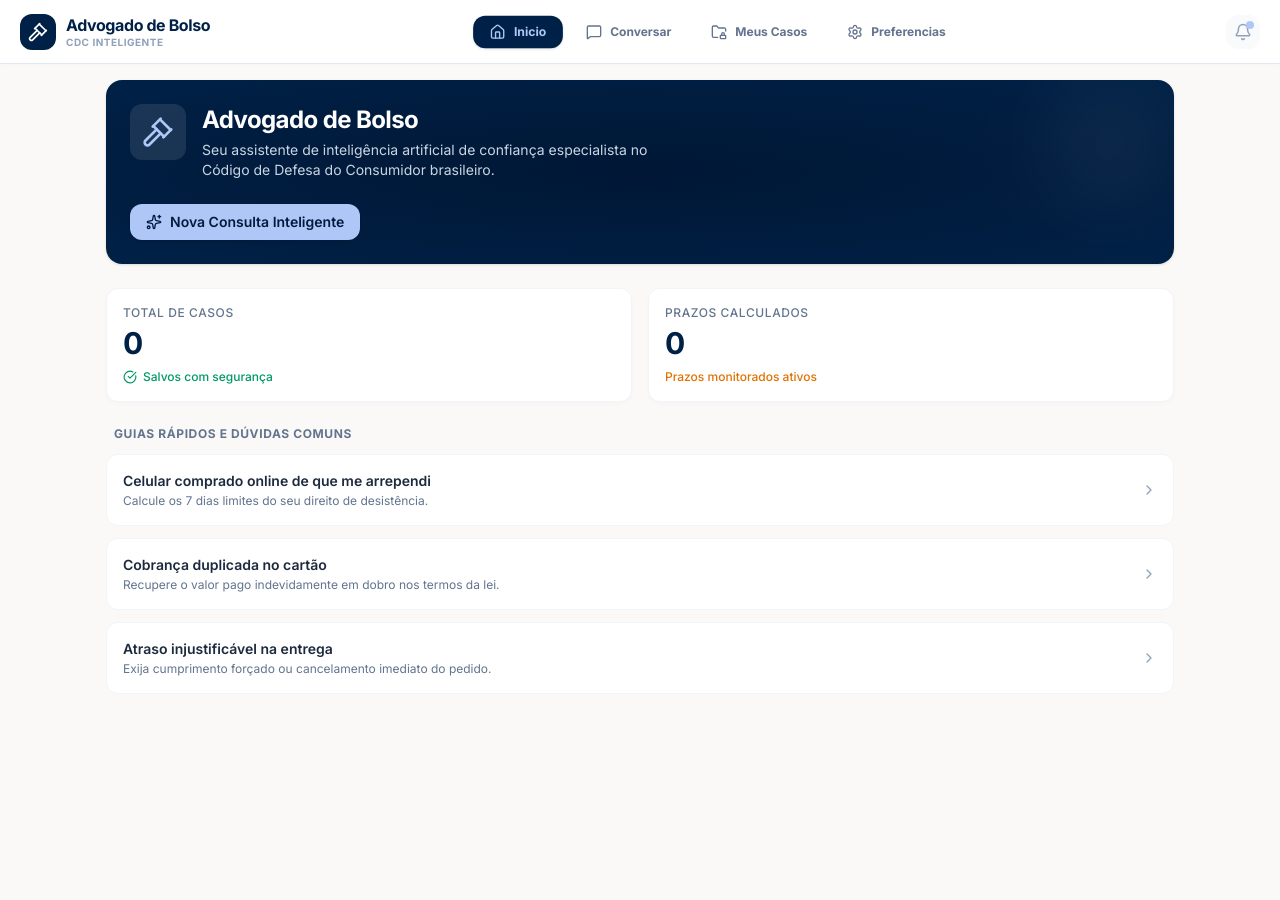
App frontend integration › a successful first message synthesizes a real case from request metadata without fetching the case by id
Click the button "Conversar": (629, 32) [570,16,687,48]
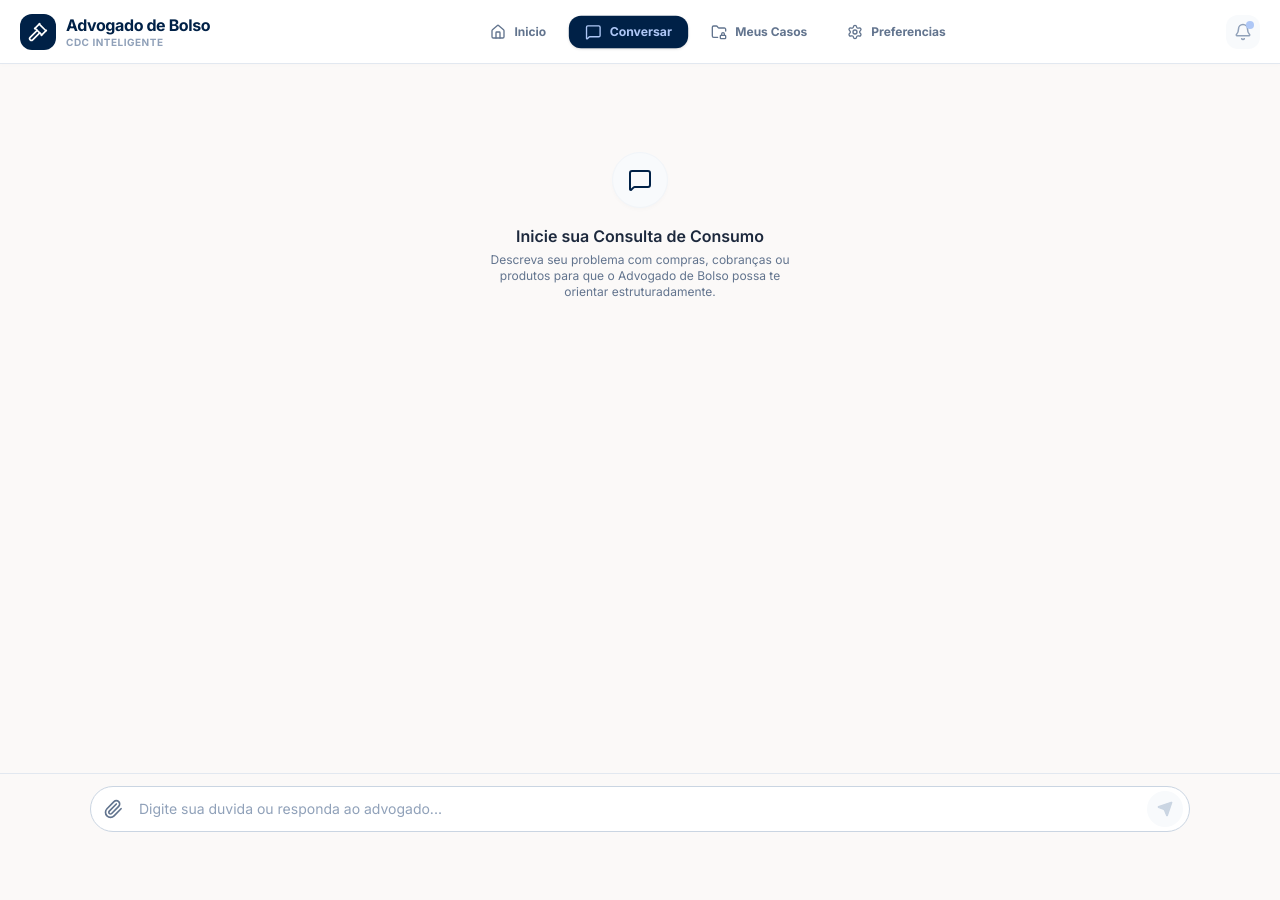
Expected: the heading "Inicie sua Consulta de Consumo" is shown, [516,224,764,248]
In the field with placeholder "Digite sua duvida ou responda ao advogado...": (641, 809) [135,787,1147,831], type "Fui cobrado duas vezes pelo mesmo produto."
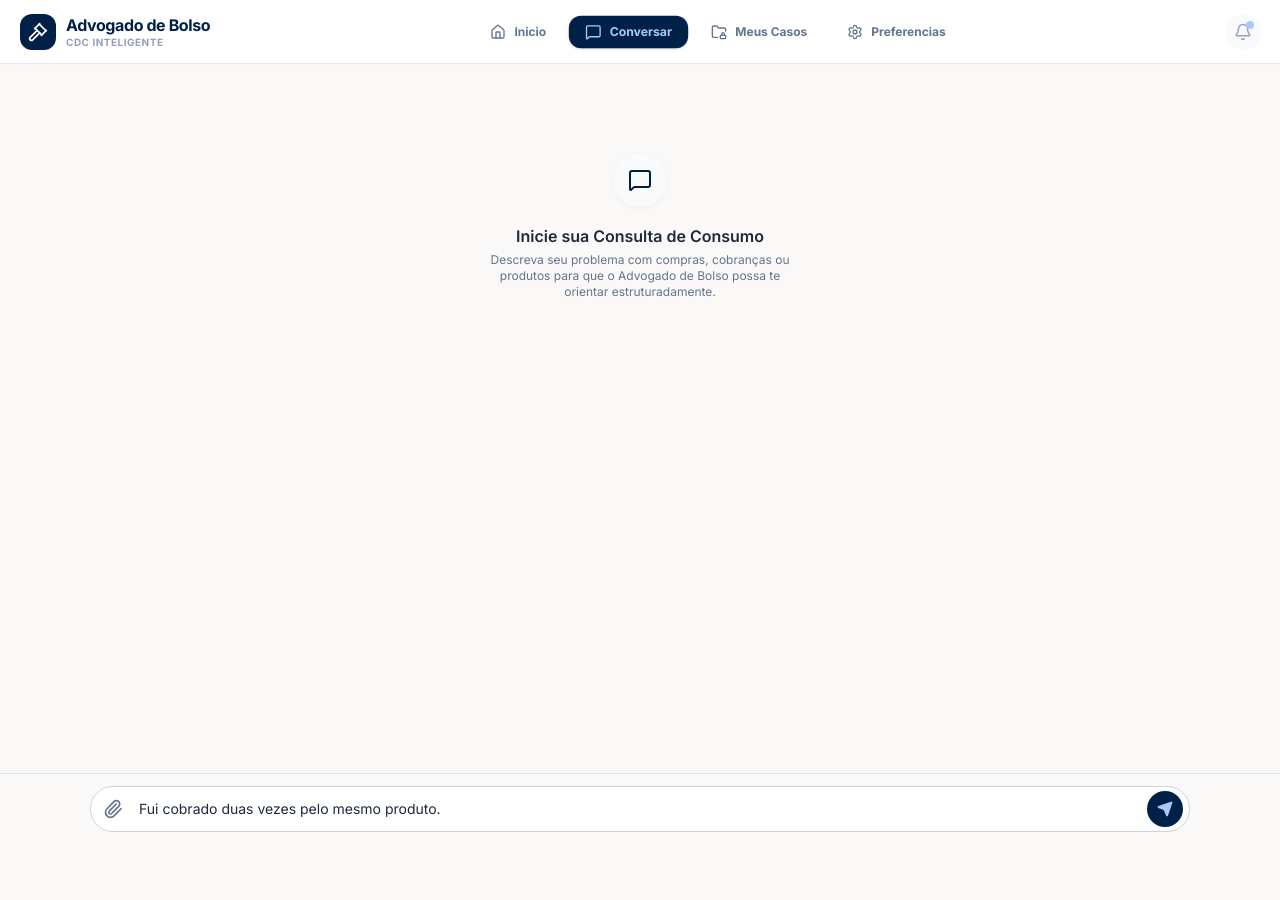
Expected: the button with id "send-button-click" is shown
Click the button with id "send-button-click": (1165, 809) [1147,791,1183,827]
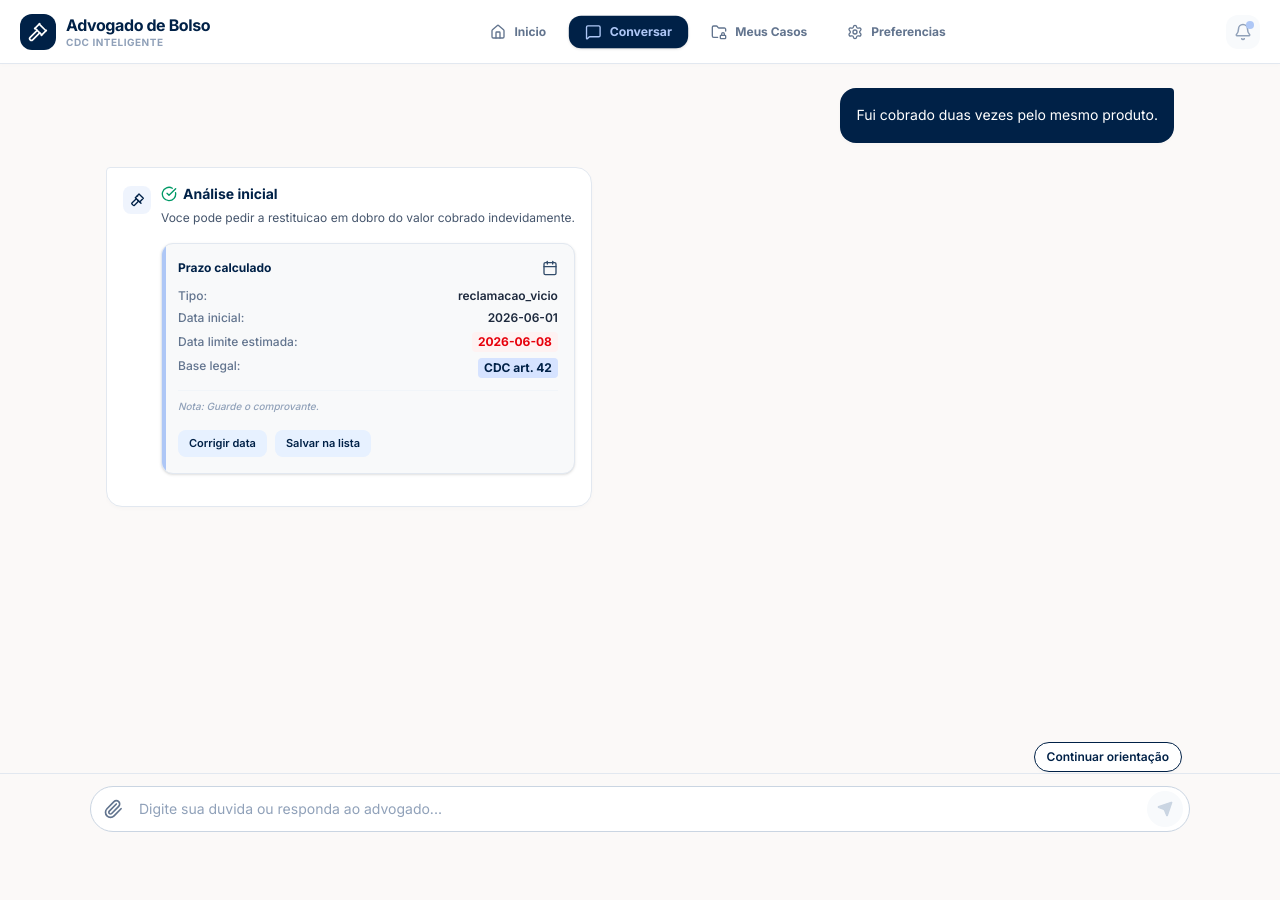
Expected: the text "Voce pode pedir a restituicao em dobro do valor cobrado indevidamente." is shown, [161,208,575,227]
Click the button "Meus Casos": (759, 32) [695,16,823,48]
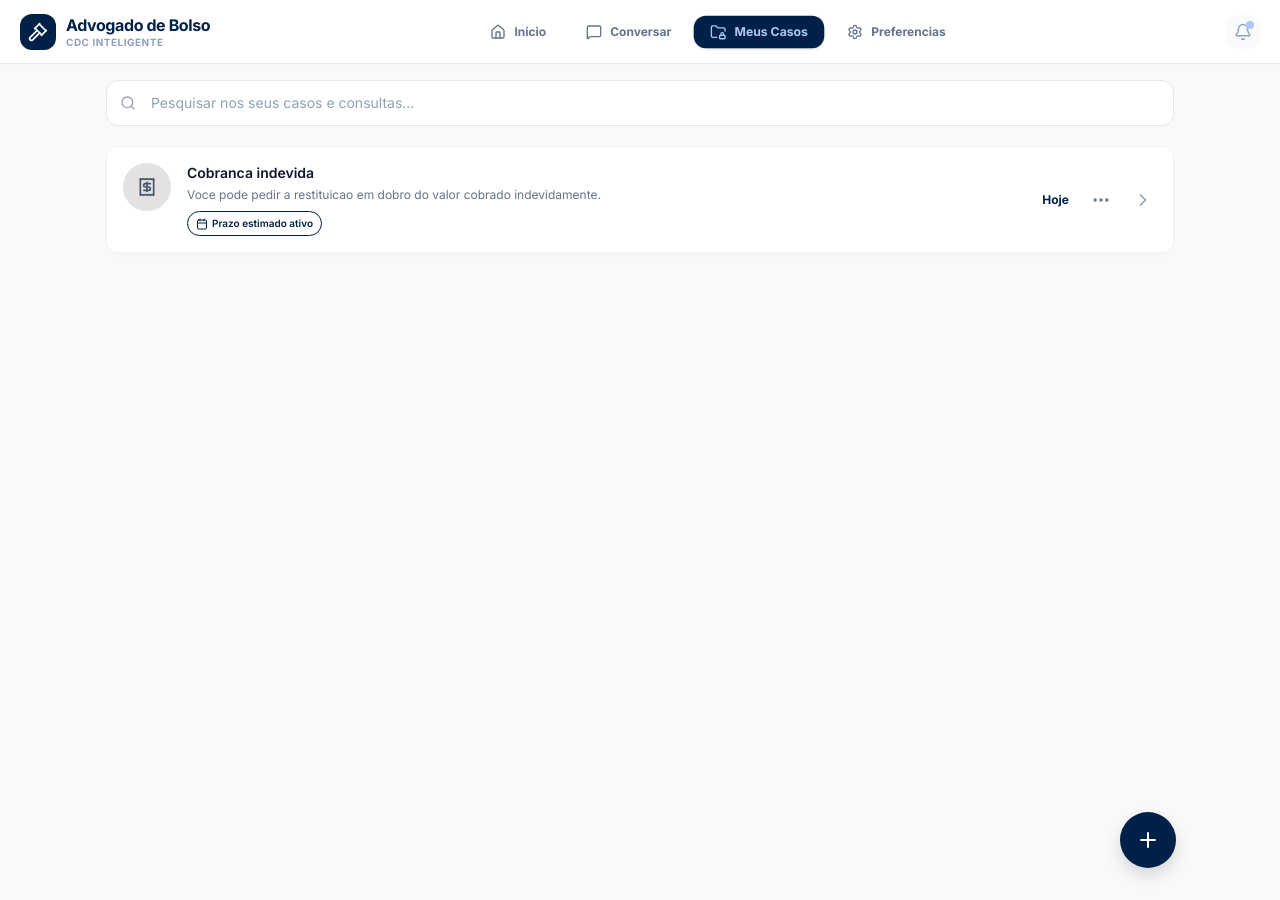
Expected: the heading "Cobranca indevida" is shown, [187,164,314,181]
Expected: the text "Prazo estimado ativo" is shown, [187,211,322,236]
